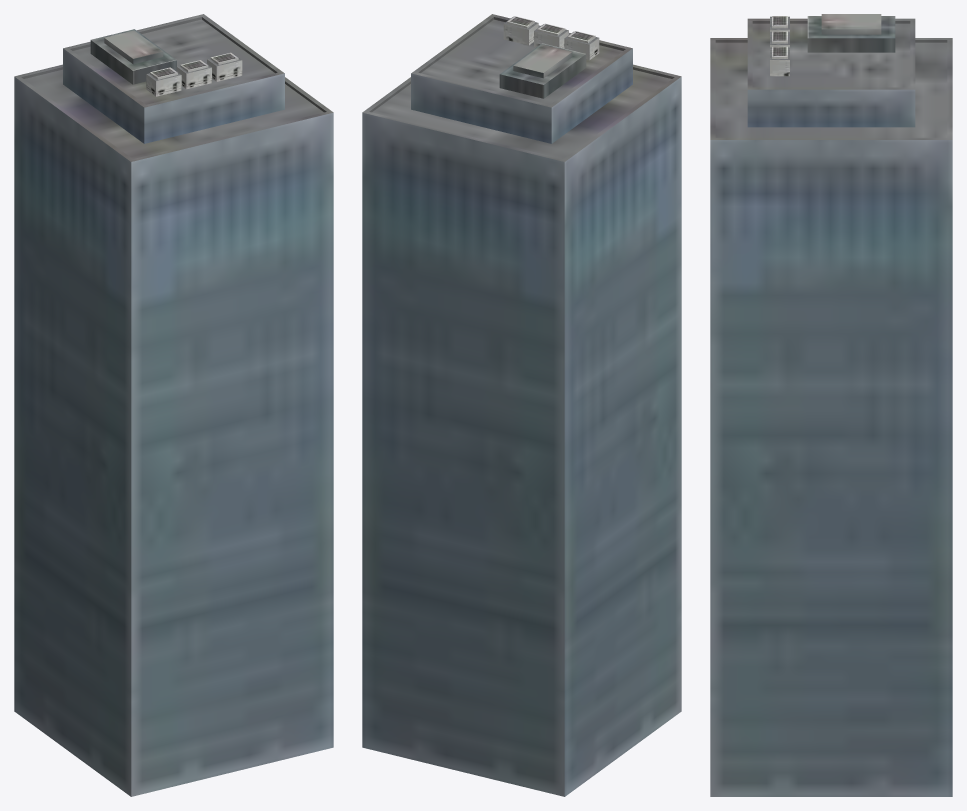
3 views of the same model, side by side, from view 1: azimuth 30°, elevation 25°; view 2: azimuth 150°, elevation 25°; view 3: azimuth 270°, elevation 25° (orthographic). The views are drawn at different scales.
Size of the model in its own units: 0.328 by 1.06 by 0.328.
1 material, 1 textured.
